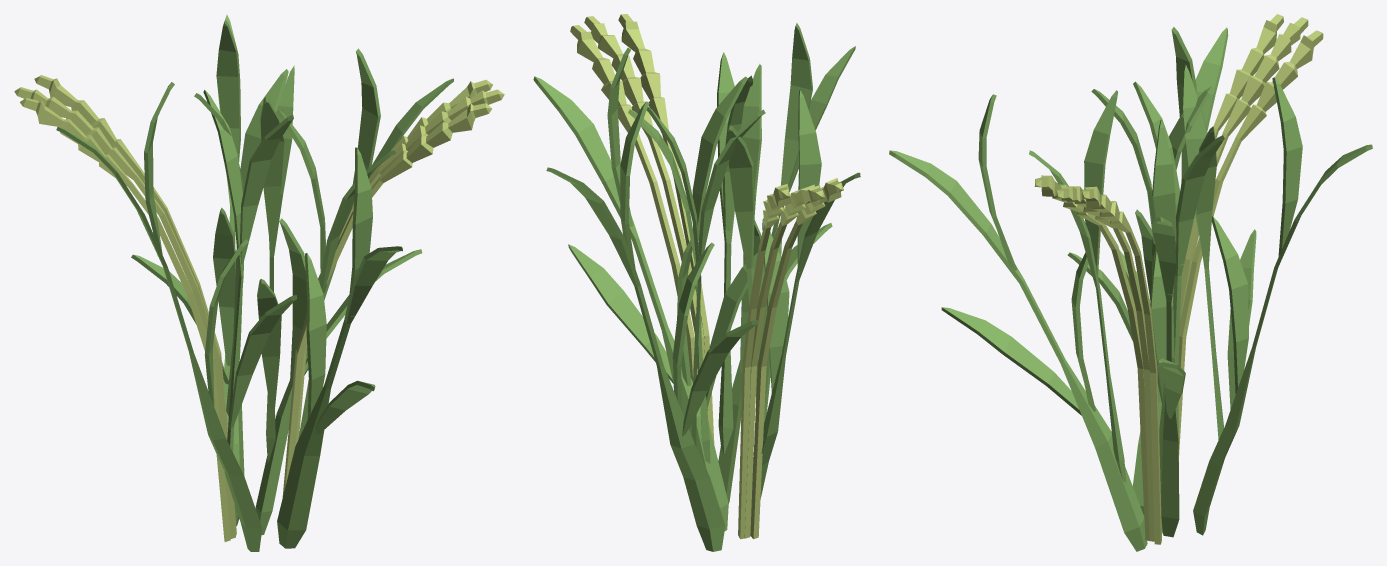
Rendered from rice_4.glb.
3 renders of one model, left to right at view 1: azimuth 30°, elevation 25°; view 2: azimuth 150°, elevation 25°; view 3: azimuth 270°, elevation 25°, orthographic.
Visible parts, largest first — view 1: Rice_4; view 2: Rice_4; view 3: Rice_4.
Part boxes in pixels (x1=…): Rice_4: x1=14, y1=14, x2=504, y2=551; Rice_4: x1=533, y1=14, x2=860, y2=551; Rice_4: x1=889, y1=14, x2=1372, y2=551.
Bounding box in the file's own units: 0.7786 × 0.9535 × 0.8808.
